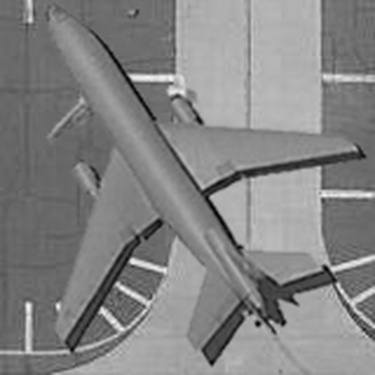airplane: (15, 1, 367, 361)
